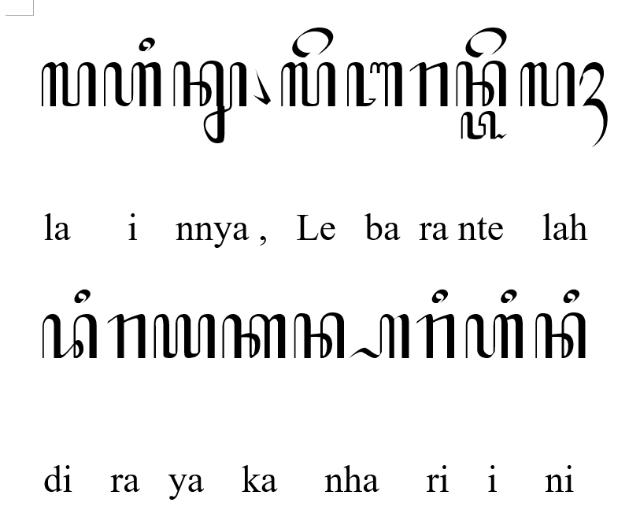_h: (348, 313, 409, 359)
_h1: (580, 61, 608, 148)
_t: (460, 110, 508, 139)
b: (346, 60, 404, 108)
d: (41, 312, 97, 360)
e: (464, 25, 508, 59), (290, 26, 334, 58)
h: (464, 314, 524, 360), (103, 62, 161, 108)
i: (138, 36, 156, 52), (430, 288, 448, 304), (562, 289, 580, 304), (74, 288, 90, 304), (501, 288, 517, 304)
k: (221, 313, 287, 359)
kom: (252, 68, 272, 106)
l: (41, 61, 97, 107), (520, 61, 576, 107), (280, 61, 336, 106)
n: (293, 312, 345, 360), (456, 60, 506, 108), (534, 312, 586, 358)
nny: (172, 60, 248, 144)
r: (409, 61, 448, 107), (108, 312, 146, 359), (416, 312, 454, 359)
y: (152, 312, 215, 359)
